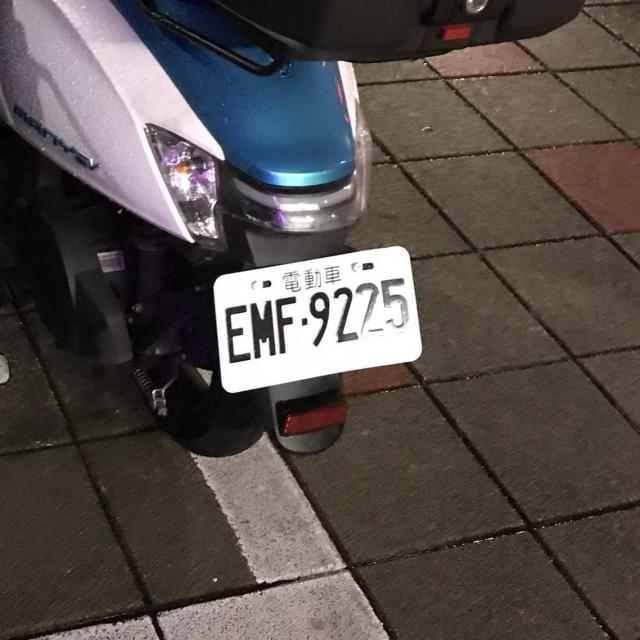W: (208, 240, 428, 396)
